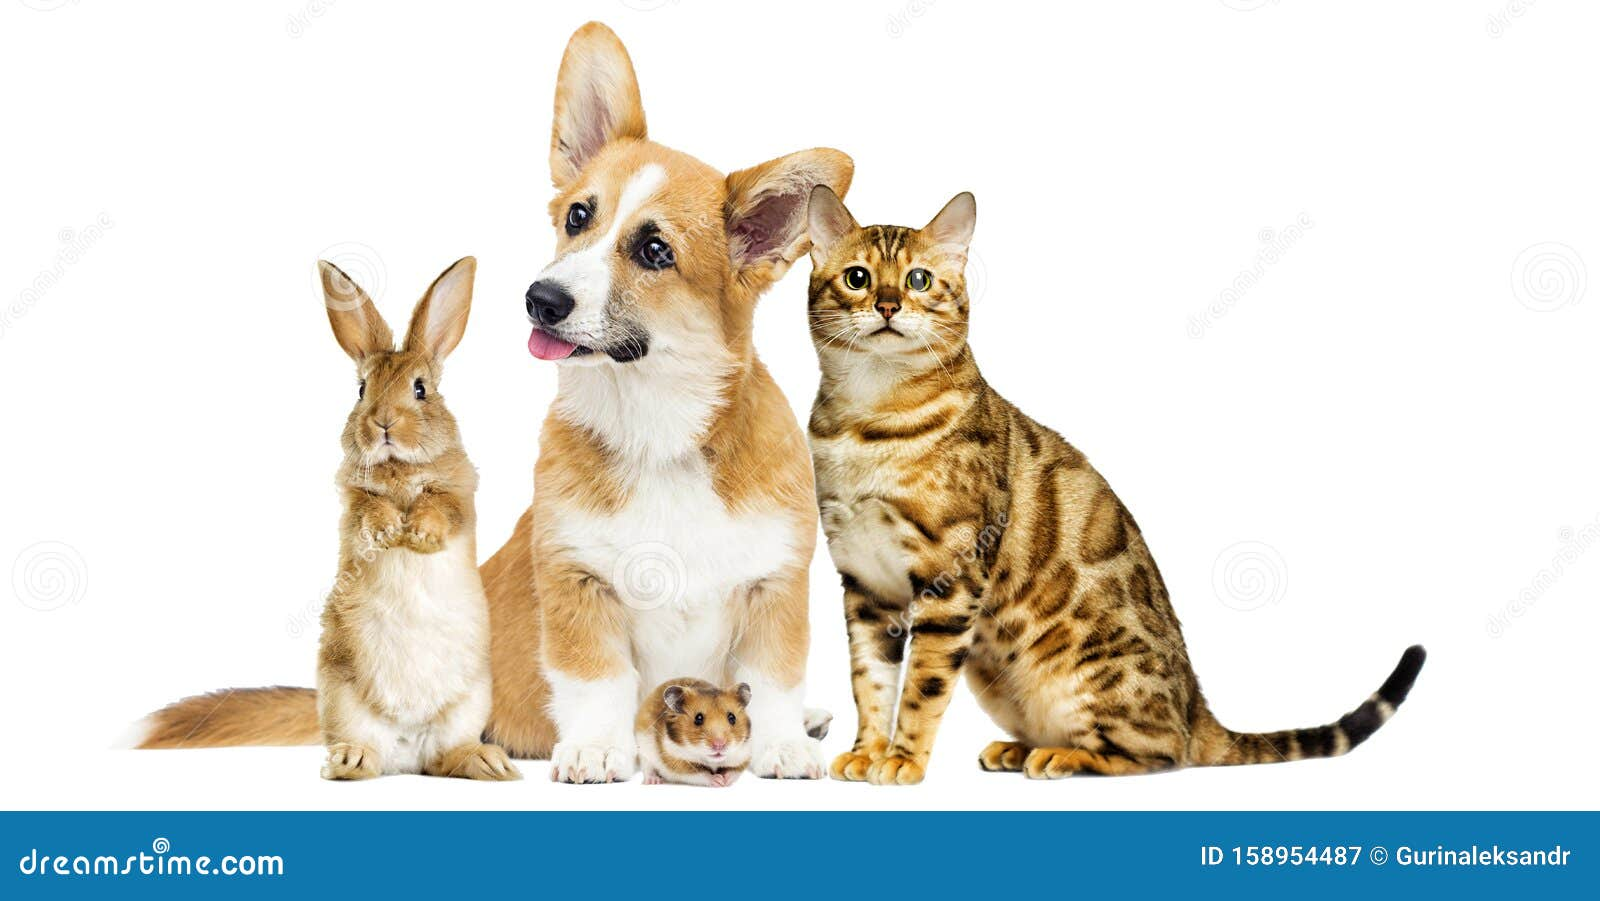cat: (804, 163, 1218, 785)
dog: (505, 46, 815, 675)
rabbit: (284, 243, 507, 794)
